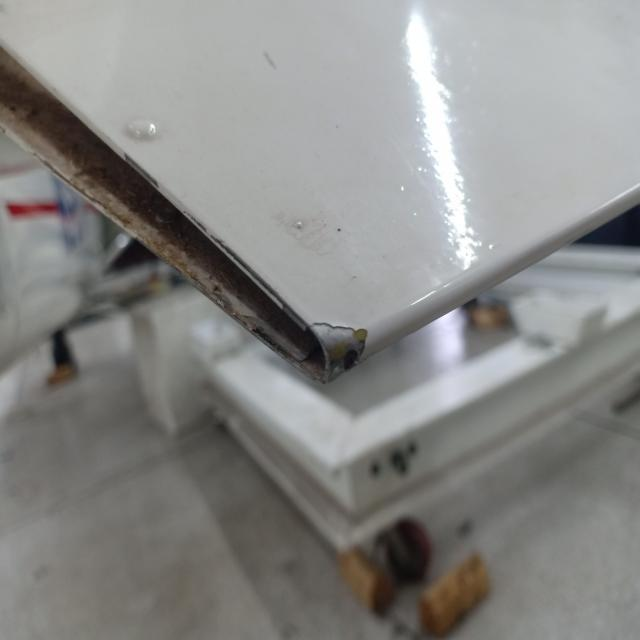Crack: (271, 226, 384, 392)
